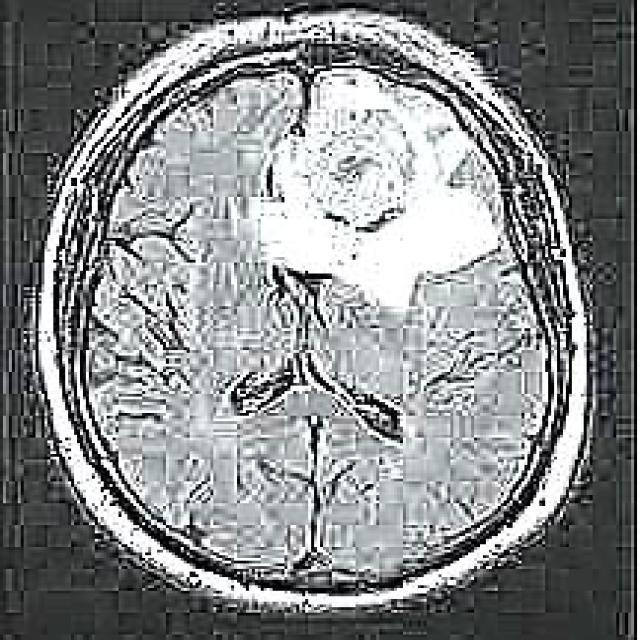brain tumor: (258, 74, 501, 309)
